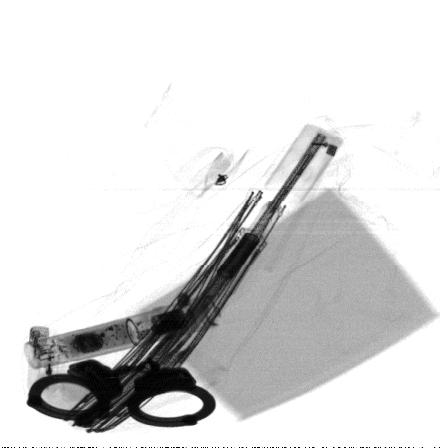Baton: (24, 301, 188, 371)
HandCuffs: (26, 356, 219, 429)
Lighter: (26, 324, 58, 403)
